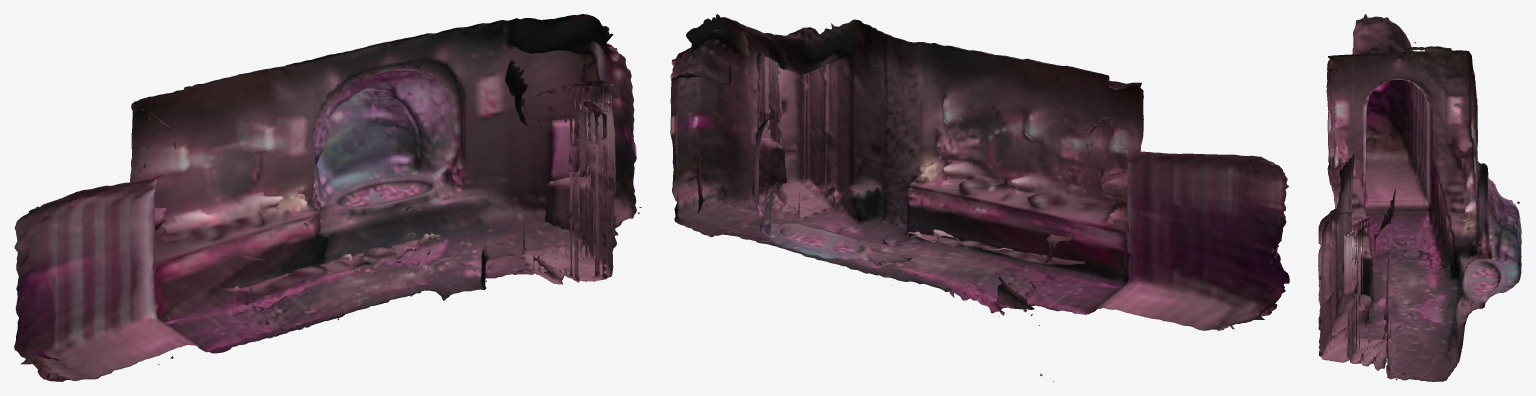
The model's file is midnight-sakura_collider.glb.
3 views of the same model, side by side, from view 1: azimuth 30°, elevation 25°; view 2: azimuth 150°, elevation 25°; view 3: azimuth 270°, elevation 25° (orthographic). The views are drawn at different scales.
Visible parts, largest first — view 1: world; view 2: world; view 3: world.
Part boxes in pixels (bbox=[...]): world: bbox=[14, 14, 641, 381]; world: bbox=[670, 14, 1289, 381]; world: bbox=[1318, 14, 1521, 381].
Bounding box in the file's own units: 10.27 × 4.2 × 3.61.
